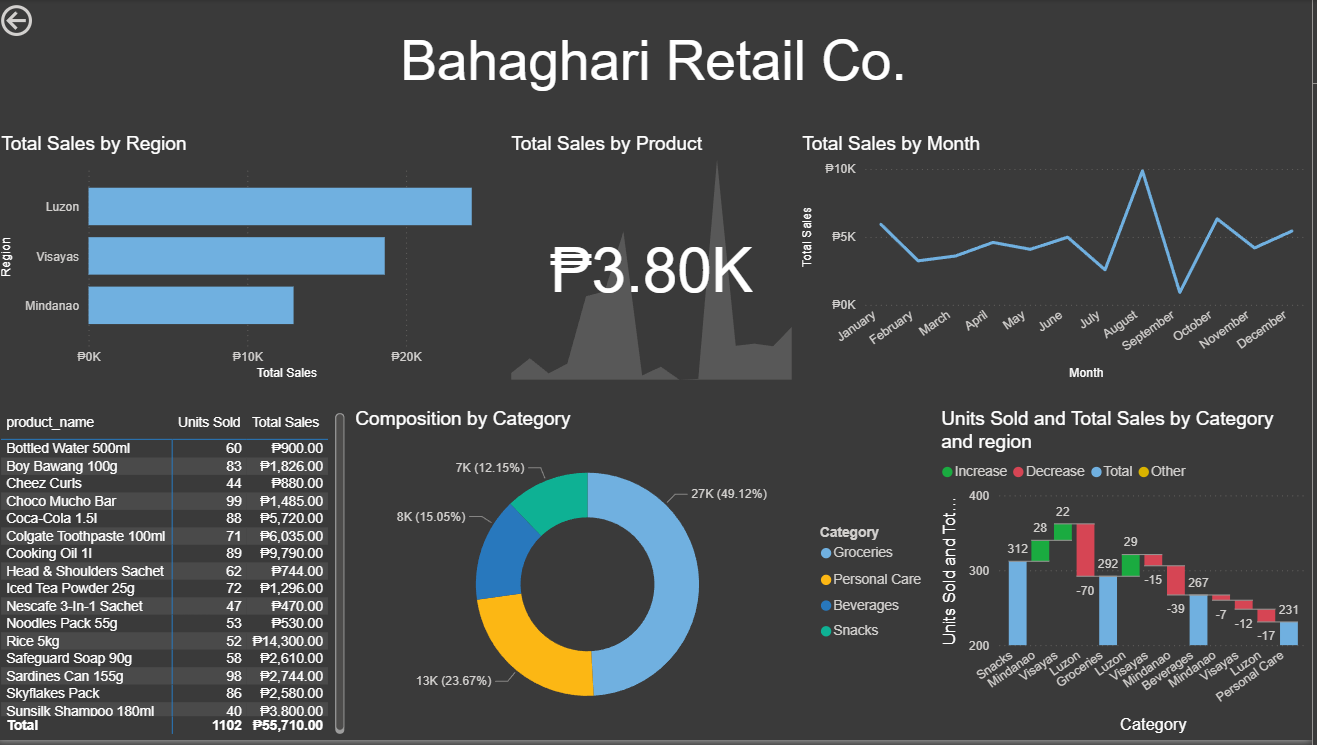

This screenshot's page, from the dashboard's own definition file:
{"tool":"powerbi","page":{"name":"Page 1","canvas":[1280,720],"ordinal":0},"visuals":[{"type":"lineChart","fields":{"Y":["InstitutionalAssessment_transactions.Total Sales"],"Category":["InstitutionalAssessment_transactions.date.Variation.Date Hierarchy.Month"]},"box":[779.1,129.4,500.9,245.1],"z":0},{"type":"kpi","fields":{"Indicator":["InstitutionalAssessment_transactions.Total Sales"],"TrendLine":["InstitutionalAssessment_products.product_name"]},"box":[496,129.4,283,245.1],"z":1000},{"type":"donutChart","fields":{"Category":["InstitutionalAssessment_products.category"],"Y":["Sum(InstitutionalAssessment_transactions.total_amount)"]},"box":[344.3,396.8,570,321.9],"z":2000},{"type":"clusteredBarChart","fields":{"Category":["InstitutionalAssessment_stores.region"],"Y":["InstitutionalAssessment_transactions.Total Sales"]},"box":[0,129.4,496,245.1],"z":3000},{"type":"pivotTable","fields":{"Rows":["InstitutionalAssessment_products.product_name"],"Values":["InstitutionalAssessment_transactions.Units Sold","InstitutionalAssessment_transactions.Total Sales"]},"box":[0,396.8,344.3,321.9],"z":4000},{"type":"textbox","box":[364.7,23.3,549.5,71],"z":5000},{"type":"actionButton","box":[0,0,100,40],"z":6000},{"type":"waterfallChart","fields":{"Breakdown":["InstitutionalAssessment_stores.region"],"Y":["InstitutionalAssessment_transactions.Units Sold"],"Category":["InstitutionalAssessment_products.category"]},"box":[914,397,366,322],"z":6001}]}

Visuals, with their boxes in screenshot pixels (x1, y1, x2, y2), scaled from the page's 1280x720 canvas onto the 1317x745 screenshot:
lineChart - InstitutionalAssessment_transactions.Total Sales x InstitutionalAssessment_transactions.date.Variation.Date Hierarchy.Month: bbox(802, 134, 1316, 388)
kpi - InstitutionalAssessment_transactions.Total Sales x InstitutionalAssessment_products.product_name: bbox(510, 134, 802, 388)
donutChart - InstitutionalAssessment_products.category x Sum(InstitutionalAssessment_transactions.total_amount): bbox(354, 411, 941, 744)
clusteredBarChart - InstitutionalAssessment_stores.region x InstitutionalAssessment_transactions.Total Sales: bbox(0, 134, 510, 388)
pivotTable - InstitutionalAssessment_products.product_name x InstitutionalAssessment_transactions.Units Sold: bbox(0, 411, 354, 744)
textbox: bbox(375, 24, 941, 98)
actionButton: bbox(0, 0, 103, 41)
waterfallChart - InstitutionalAssessment_stores.region x InstitutionalAssessment_transactions.Units Sold: bbox(940, 411, 1316, 744)
